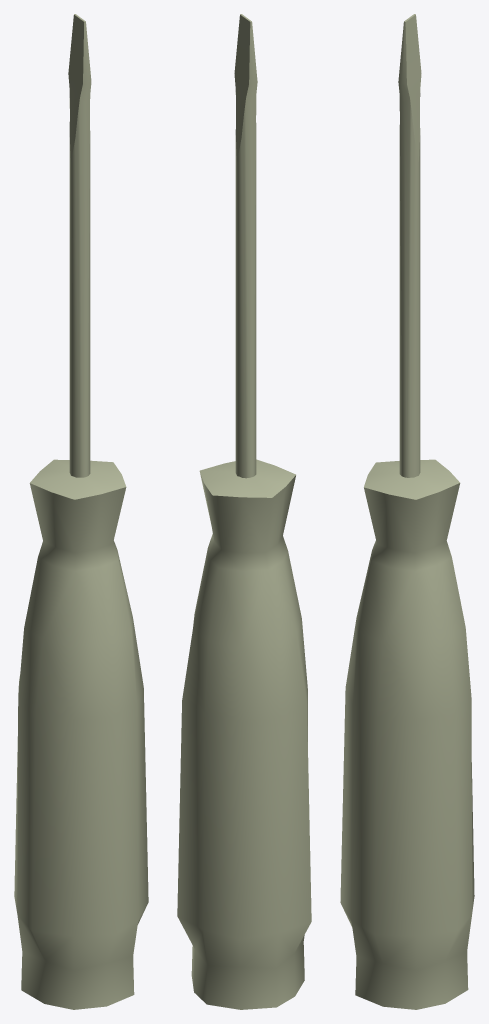
File: SM_ScrewDriver_01b.FBX
3 renders of one model, left to right at view 1: azimuth 30°, elevation 25°; view 2: azimuth 210°, elevation 25°; view 3: azimuth 330°, elevation 25°, orthographic.
Visible parts, largest first — view 1: SM_ScrewDriver_01b_LOD0; view 2: SM_ScrewDriver_01b_LOD0; view 3: SM_ScrewDriver_01b_LOD0.
Boxes of the visible parts, bbox=[...] form: SM_ScrewDriver_01b_LOD0: bbox=[14, 14, 148, 1009]; SM_ScrewDriver_01b_LOD0: bbox=[177, 14, 311, 1009]; SM_ScrewDriver_01b_LOD0: bbox=[340, 14, 474, 1009].
Size of what is drawn, in the model's own units: 2.4 by 19.42 by 2.38.
